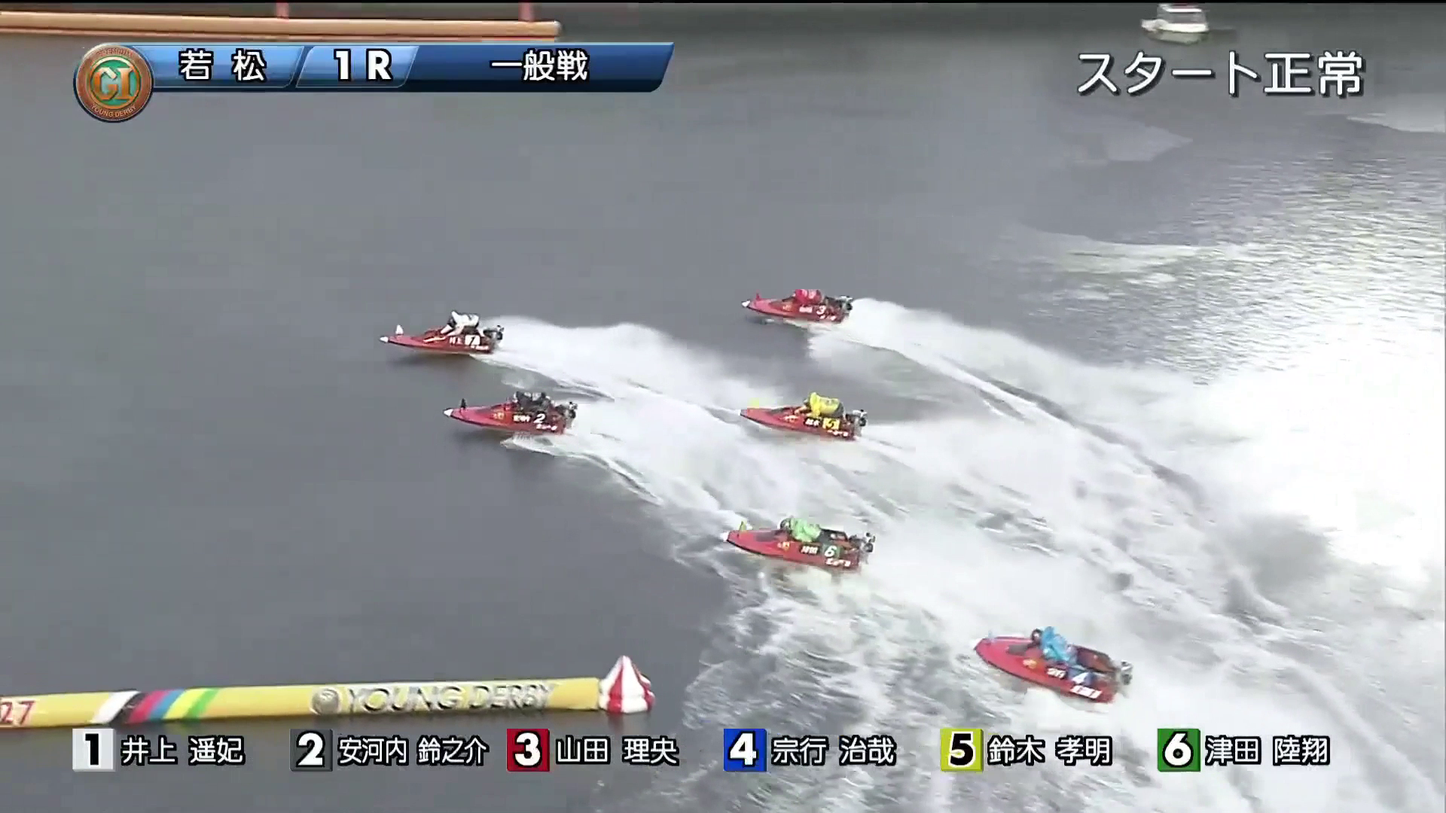１号艇: (393, 276, 464, 329)
２号艇: (425, 370, 554, 431)
３号艇: (762, 258, 860, 314)
４号艇: (739, 498, 873, 563)
５号艇: (1003, 635, 1126, 690)
６号艇: (741, 357, 841, 437)
